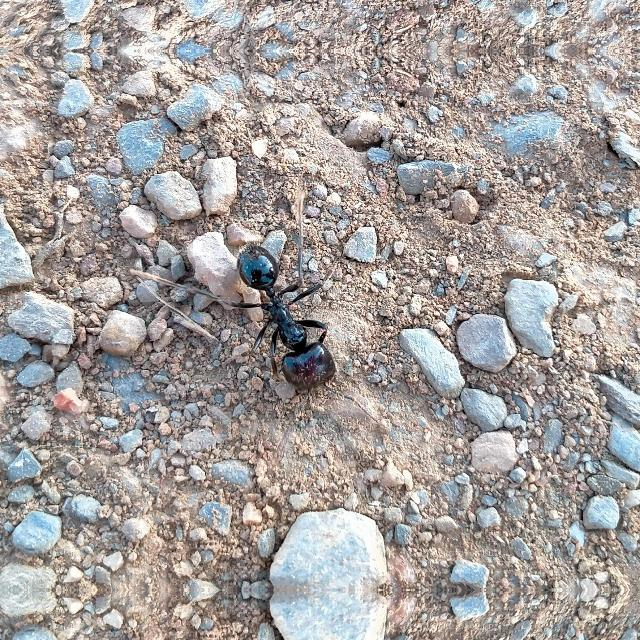Messor: (192, 230, 356, 408)
